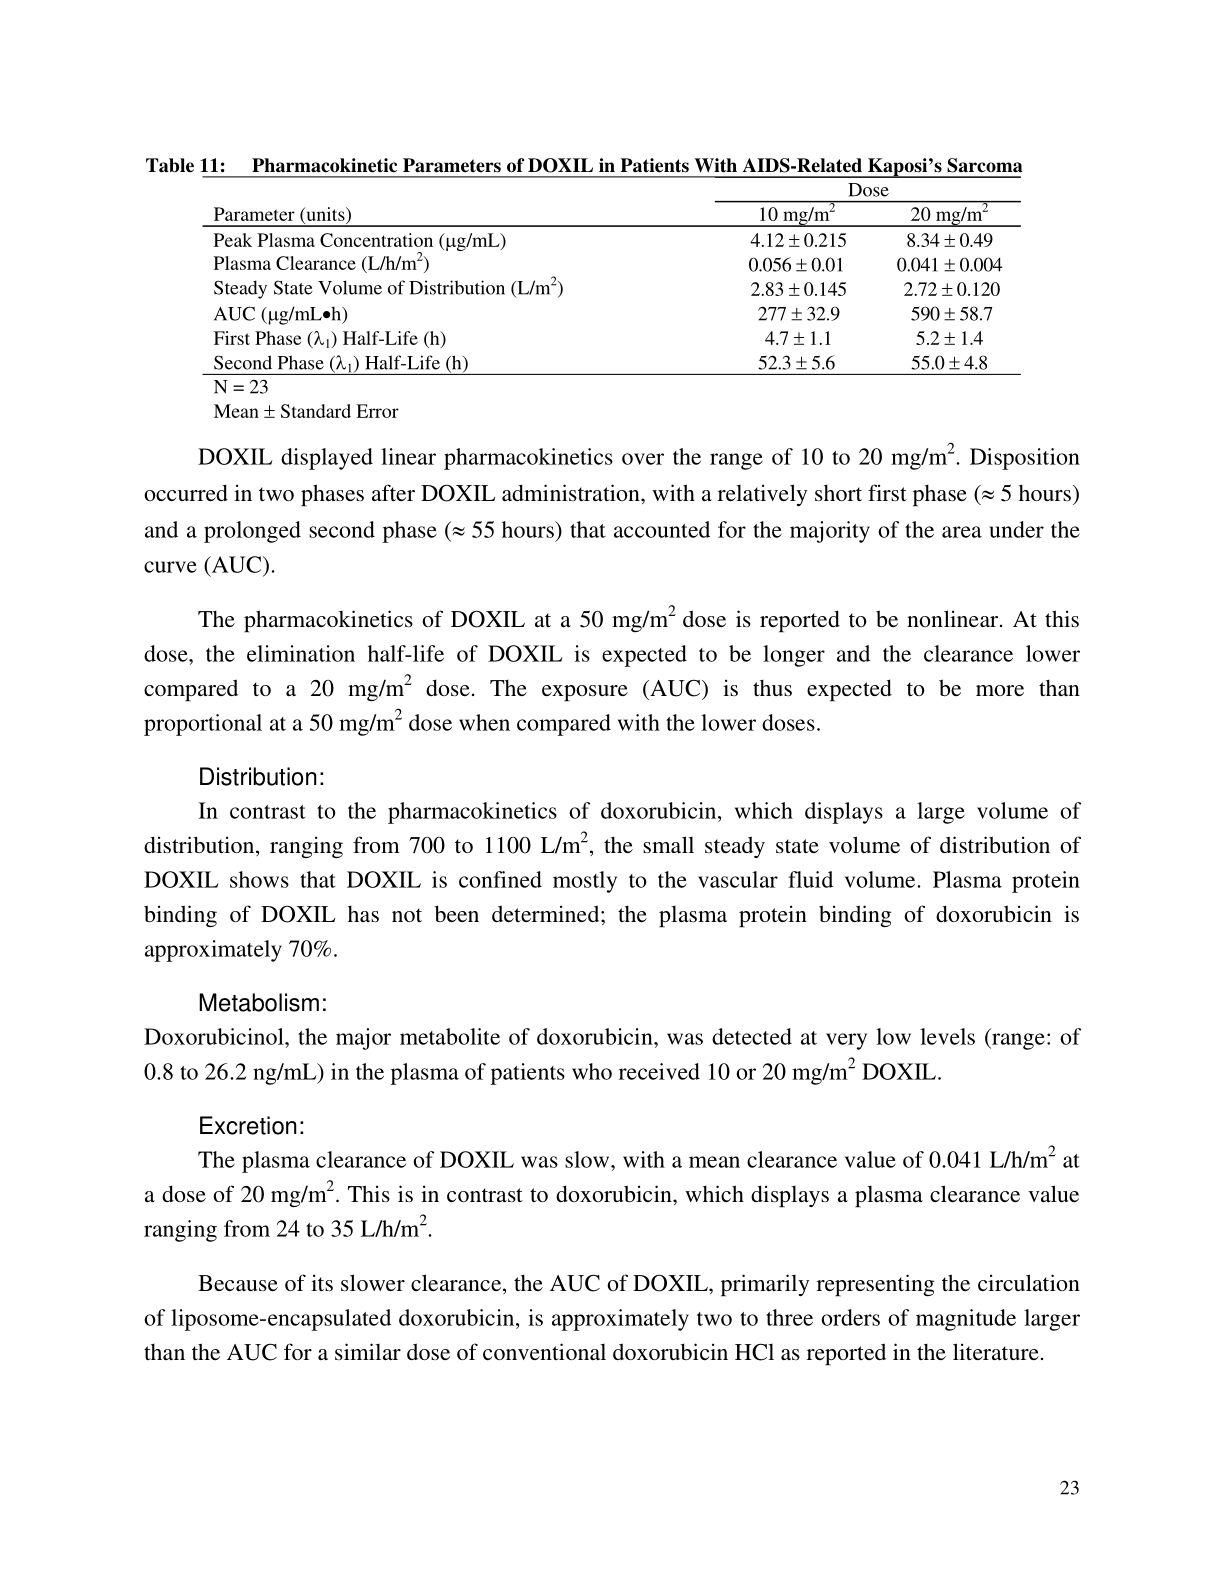partial_lined_merged_cells: (201, 174, 1023, 375)
